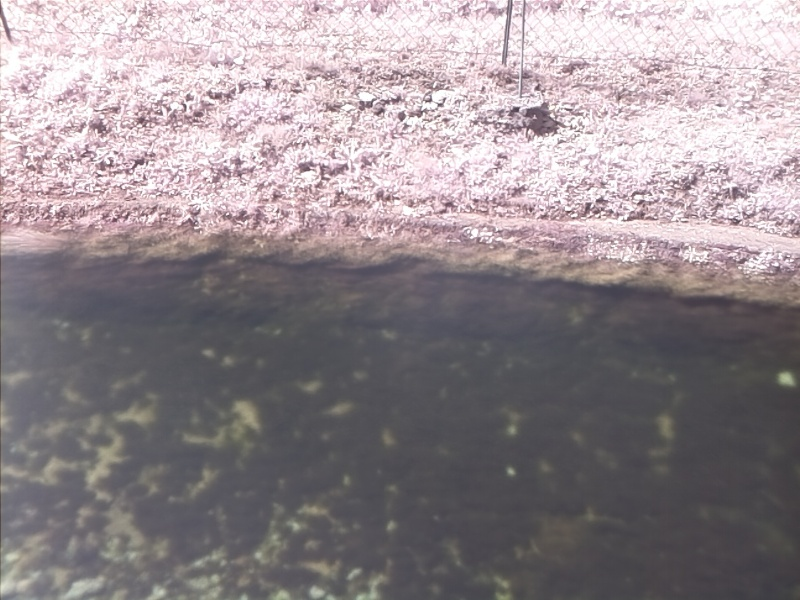Water: (1, 223, 798, 600)
